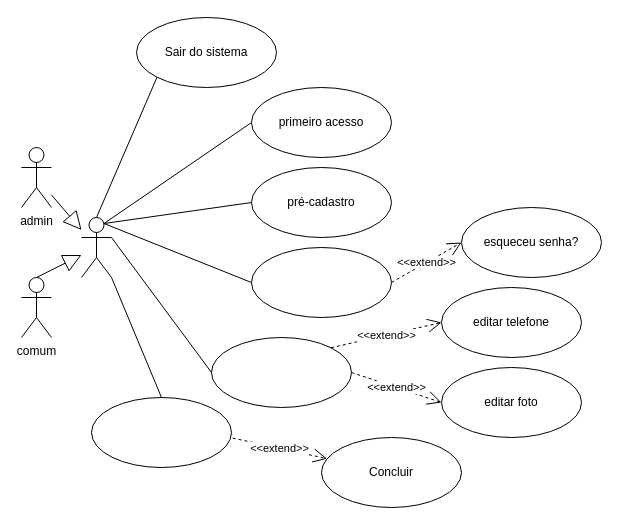
Some shapes in this 619 by 525 pixel diagram are drawn without their labels. Here are the shapes that lost their labels. From the top down, the centre of each, then its label:
[96,247]: usuário
[321,282]: login
[281,372]: editar perfil
[161,432]: reportar problemas
